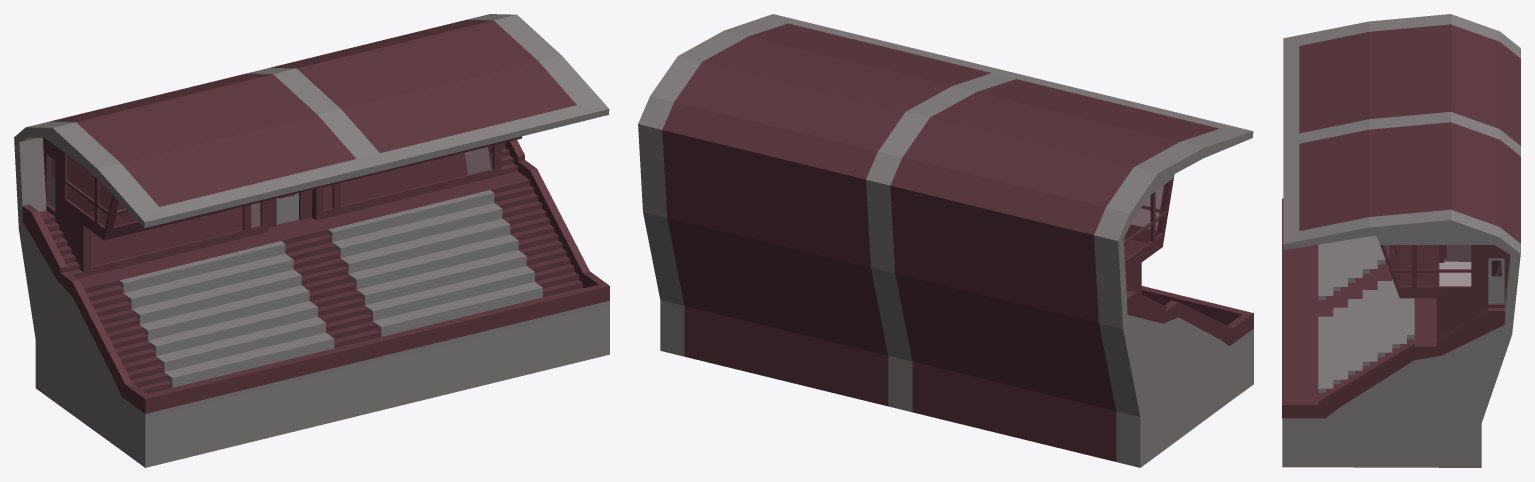
File: tribune-streight-small.fbx
3 views of the same model, side by side, from view 1: azimuth 30°, elevation 25°; view 2: azimuth 150°, elevation 25°; view 3: azimuth 270°, elevation 25° (orthographic). The views are drawn at different scales.
Parts seen in each view (by area): view 1: tribune-streight-small; view 2: tribune-streight-small; view 3: tribune-streight-small.
Part boxes in pixels (<box>): tribune-streight-small: <box>14,14,609,467</box>; tribune-streight-small: <box>638,14,1253,467</box>; tribune-streight-small: <box>1282,14,1520,467</box>.
Bounding box in the file's own units: 19.79 × 11.1 × 9.68.
